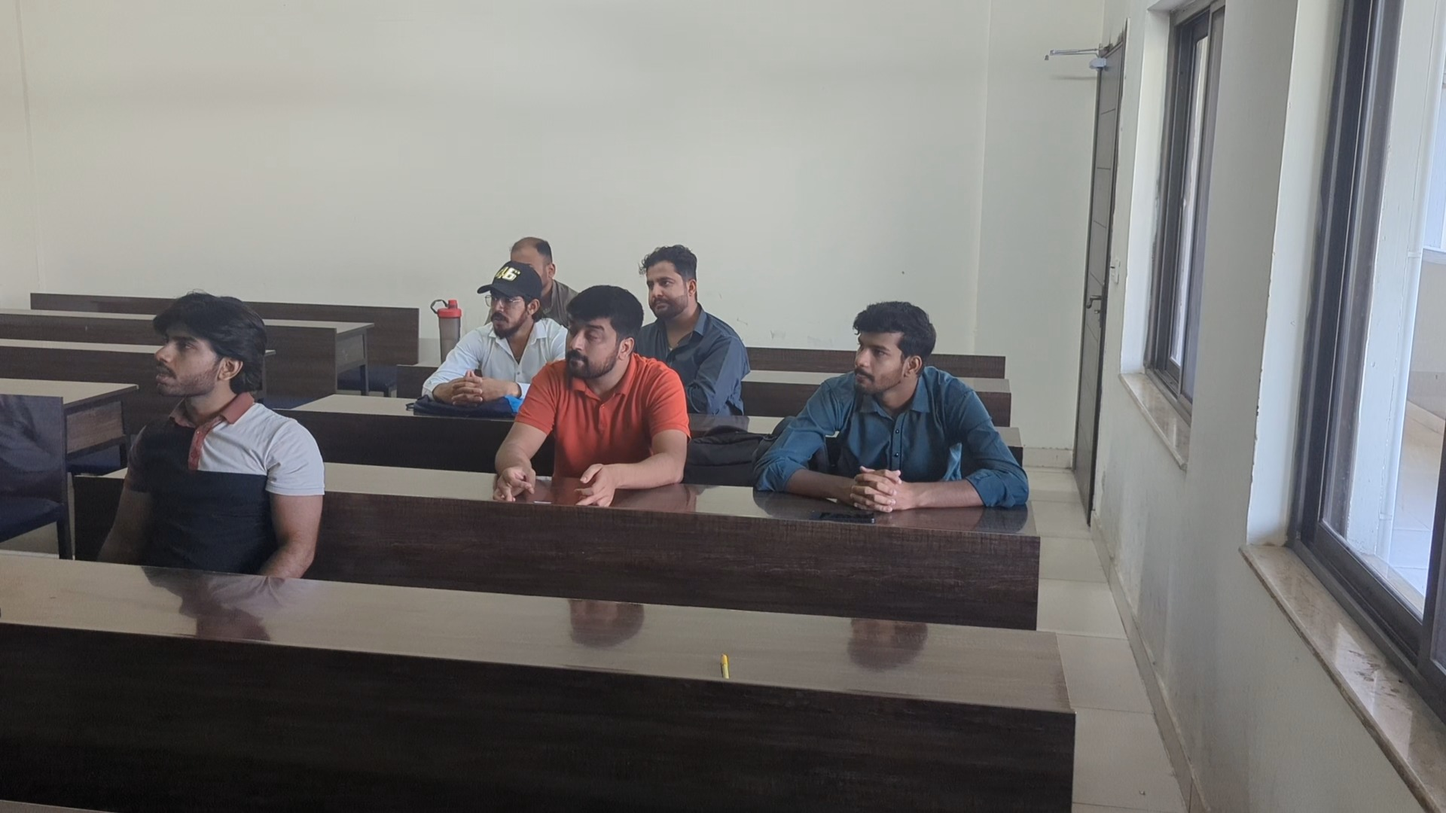look_forward: (99, 296, 330, 518), (824, 298, 1009, 511), (548, 287, 676, 469), (635, 236, 753, 363), (464, 264, 550, 383), (514, 229, 573, 275)
